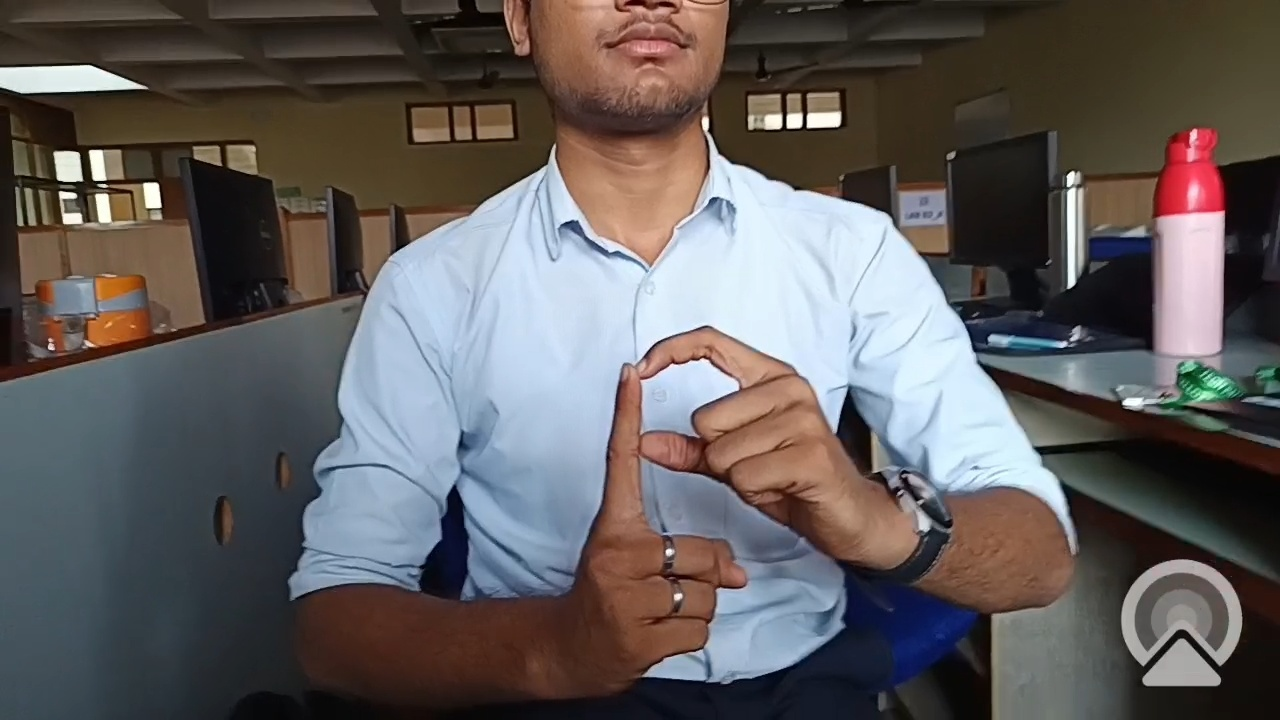P: (523, 317, 923, 689)
